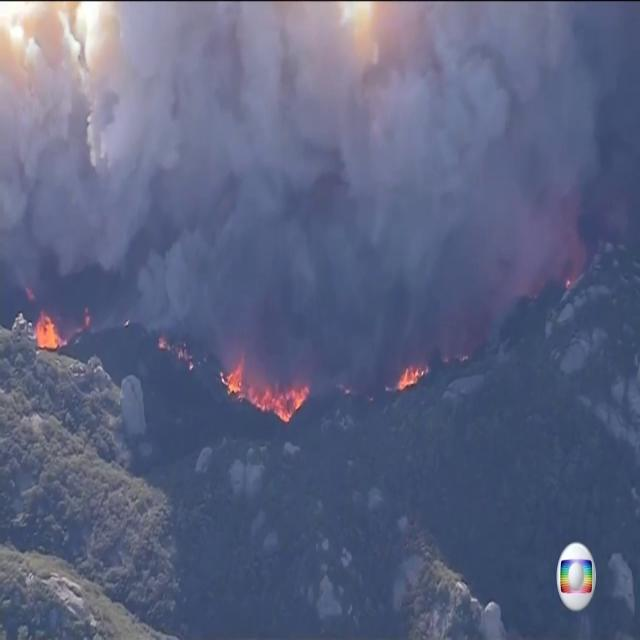Fire: (220, 349, 310, 426), (36, 310, 68, 350), (159, 338, 194, 371), (398, 366, 430, 390), (84, 306, 91, 330), (565, 280, 571, 290)
Smoke: (0, 0, 640, 388)
